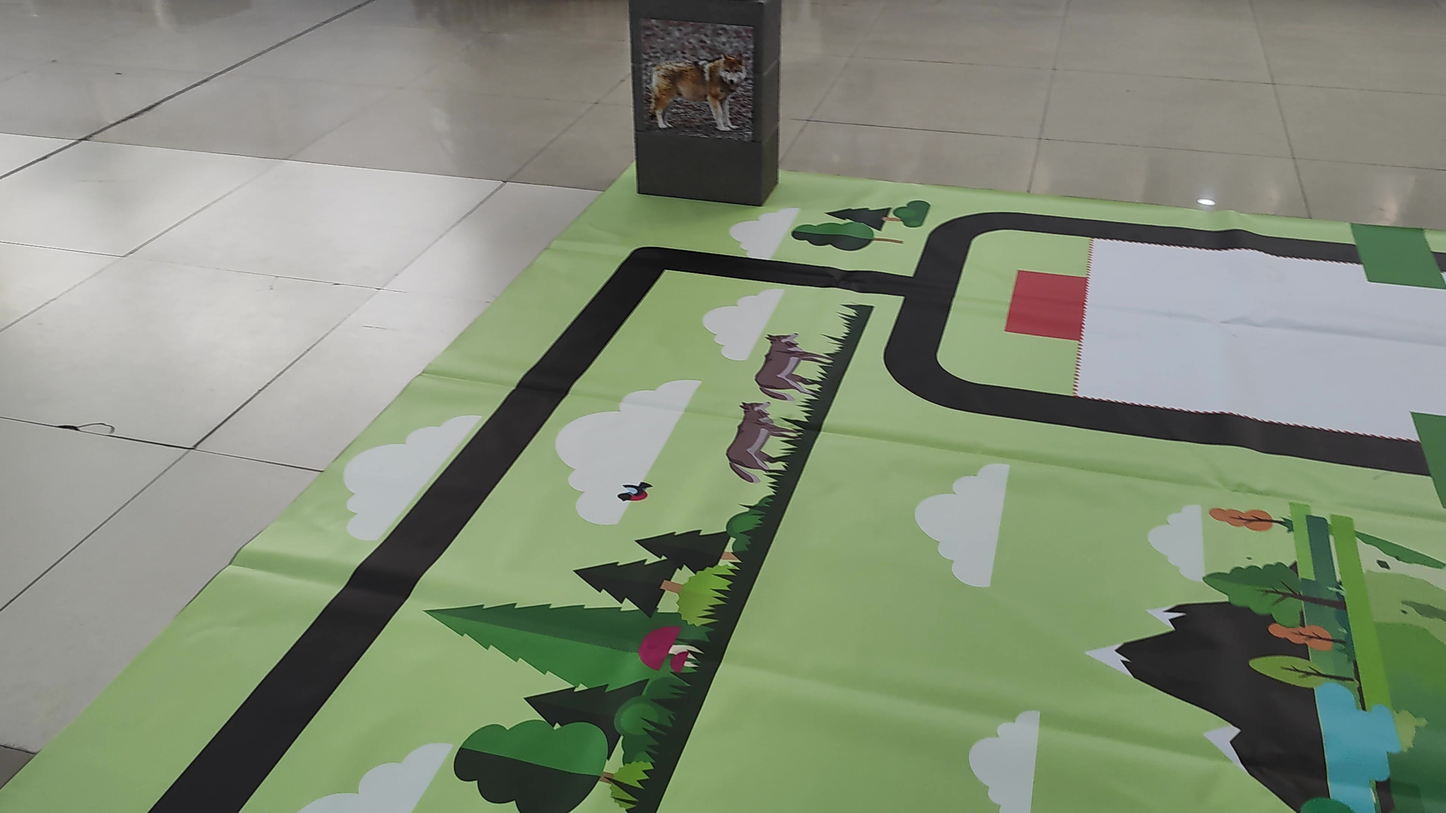wolf: (635, 24, 754, 143)
